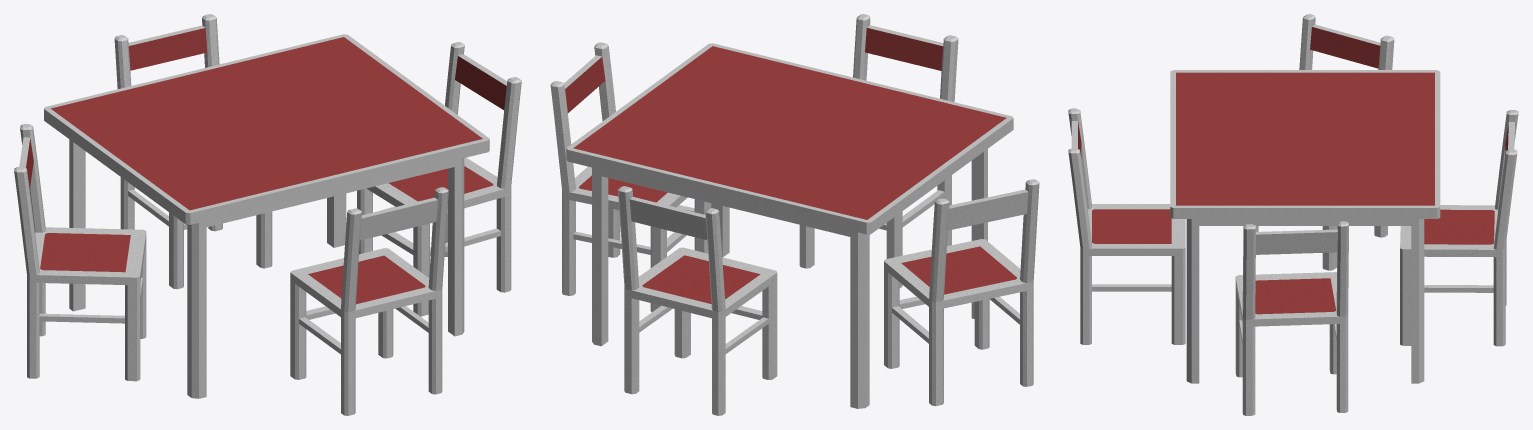
File: SquareTable.FBX
3 views of the same model, side by side, from view 1: azimuth 30°, elevation 25°; view 2: azimuth 150°, elevation 25°; view 3: azimuth 270°, elevation 25° (orthographic). The views are drawn at different scales.
Visible parts, largest first — view 1: top, chair3, chair2, legs, chair1, chair4; view 2: top, chair4, chair2, legs, chair1, chair3; view 3: top, chair1, chair3, chair4, legs, chair2.
Part boxes in pixels (x1=…): top: x1=44, y1=34, x2=489, y2=224; chair3: x1=290, y1=187, x2=448, y2=415; chair2: x1=14, y1=124, x2=146, y2=381; legs: x1=69, y1=139, x2=464, y2=398; chair1: x1=357, y1=42, x2=521, y2=316; chair4: x1=114, y1=14, x2=272, y2=289; top: x1=566, y1=43, x2=1013, y2=234; chair4: x1=618, y1=186, x2=777, y2=415; chair2: x1=884, y1=179, x2=1039, y2=406; legs: x1=592, y1=149, x2=987, y2=408; chair1: x1=550, y1=42, x2=711, y2=312; chair3: x1=799, y1=14, x2=958, y2=287; top: x1=1170, y1=70, x2=1440, y2=218; chair1: x1=1235, y1=221, x2=1348, y2=415; chair3: x1=1068, y1=108, x2=1185, y2=344; chair4: x1=1400, y1=110, x2=1518, y2=346; legs: x1=1186, y1=219, x2=1424, y2=383; chair2: x1=1256, y1=14, x2=1394, y2=270.
Size of the model in its own units: 572 by 506 by 242.
